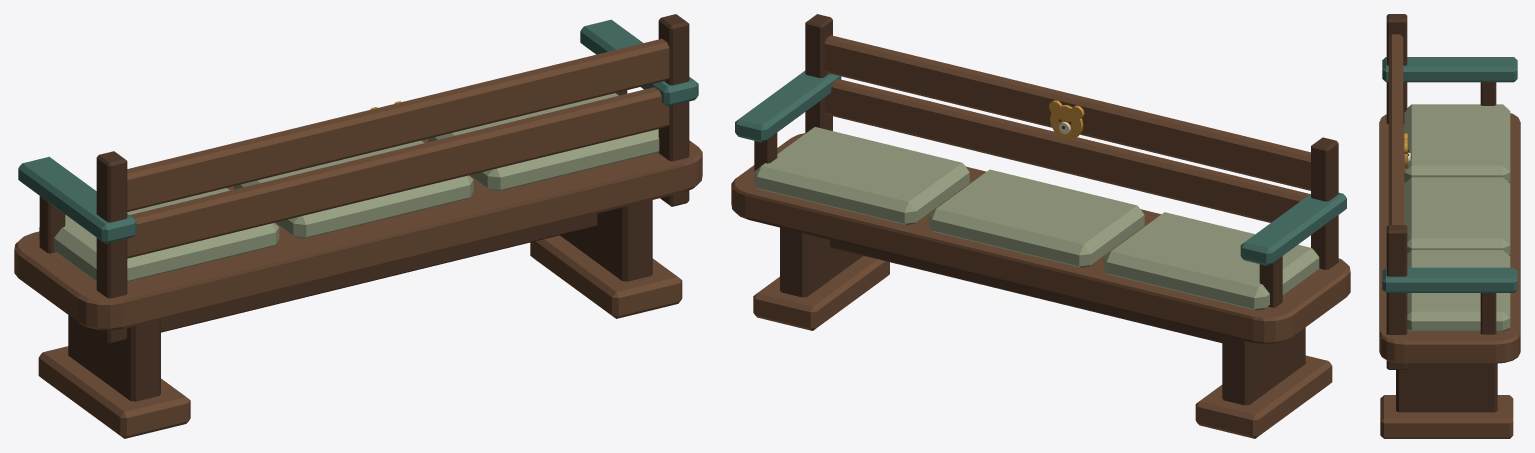
The model's file is SU_04_Waiting_Bench.fbx.
3 renders of one model, left to right at view 1: azimuth 30°, elevation 25°; view 2: azimuth 150°, elevation 25°; view 3: azimuth 270°, elevation 25°, orthographic. The views are drawn at different scales.
Parts seen in each view (by area): view 1: SU_04_Waiting_Bench; view 2: SU_04_Waiting_Bench; view 3: SU_04_Waiting_Bench.
Part boxes in pixels (x1=…): SU_04_Waiting_Bench: x1=14, y1=14, x2=702, y2=438; SU_04_Waiting_Bench: x1=731, y1=14, x2=1350, y2=438; SU_04_Waiting_Bench: x1=1379, y1=14, x2=1520, y2=438.
Bounding box in the file's own units: 2.65 × 0.68 × 1.13.
